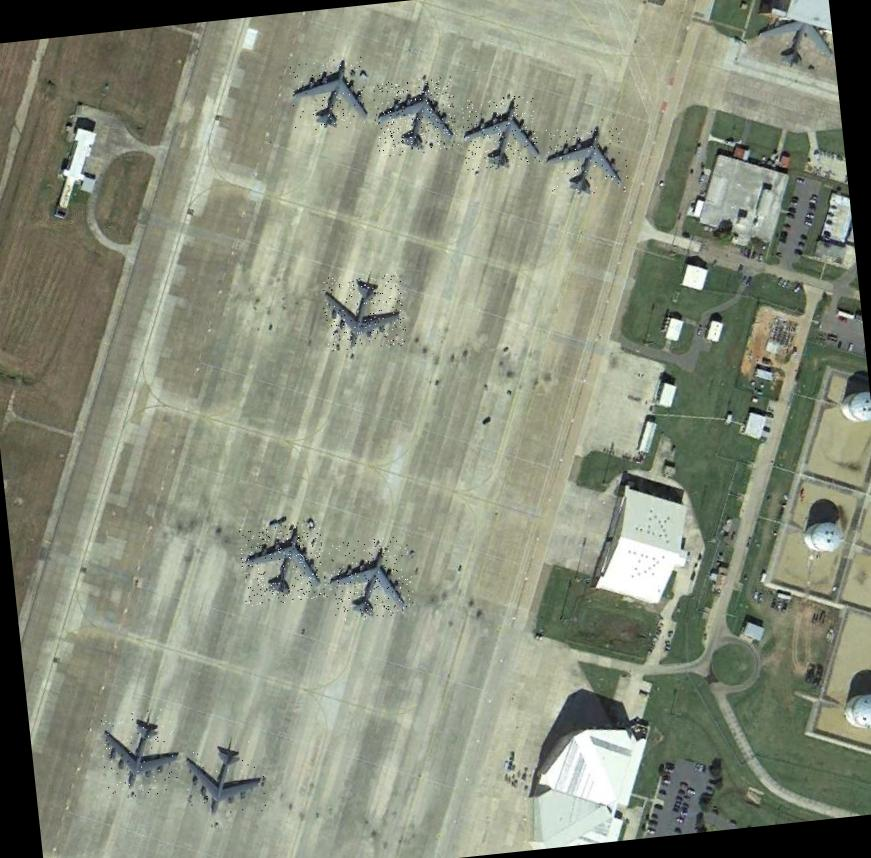A8: (326, 535, 416, 622), (237, 520, 327, 607), (98, 707, 180, 799), (320, 270, 408, 354), (182, 738, 268, 823), (370, 76, 459, 158), (544, 122, 630, 200), (459, 93, 540, 172), (288, 57, 369, 133)
